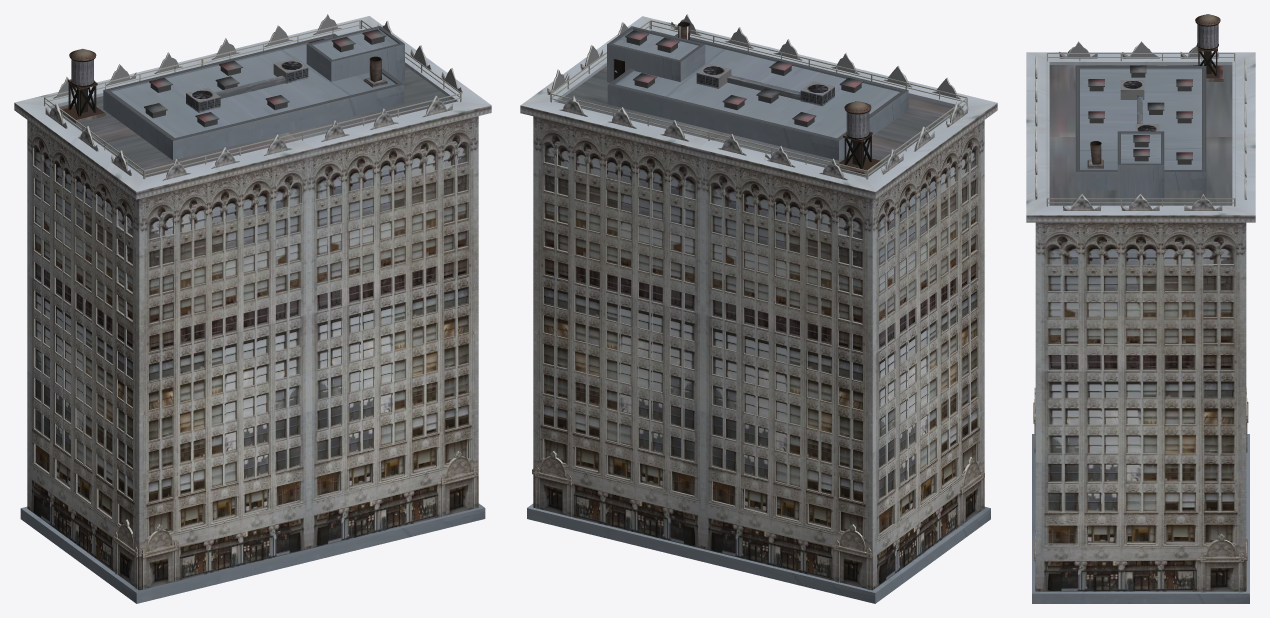
The model's file is bayard_building_opt.glb.
The picture shows the model from 3 angles, left to right: view 1: azimuth 30°, elevation 25°; view 2: azimuth 150°, elevation 25°; view 3: azimuth 270°, elevation 25°; orthographic projection. The views are drawn at different scales.
Parts seen in each view (by area): view 1: Object_4; view 2: Object_4; view 3: Object_4.
Boxes of the visible parts, box(x1,y1,x2,y2) form: Object_4: box(14, 14, 491, 603); Object_4: box(520, 14, 997, 603); Object_4: box(1026, 14, 1255, 603).
Size of the model in its own units: 33.22 by 42.64 by 19.77.
Materials: 1 (1 with a texture image).
